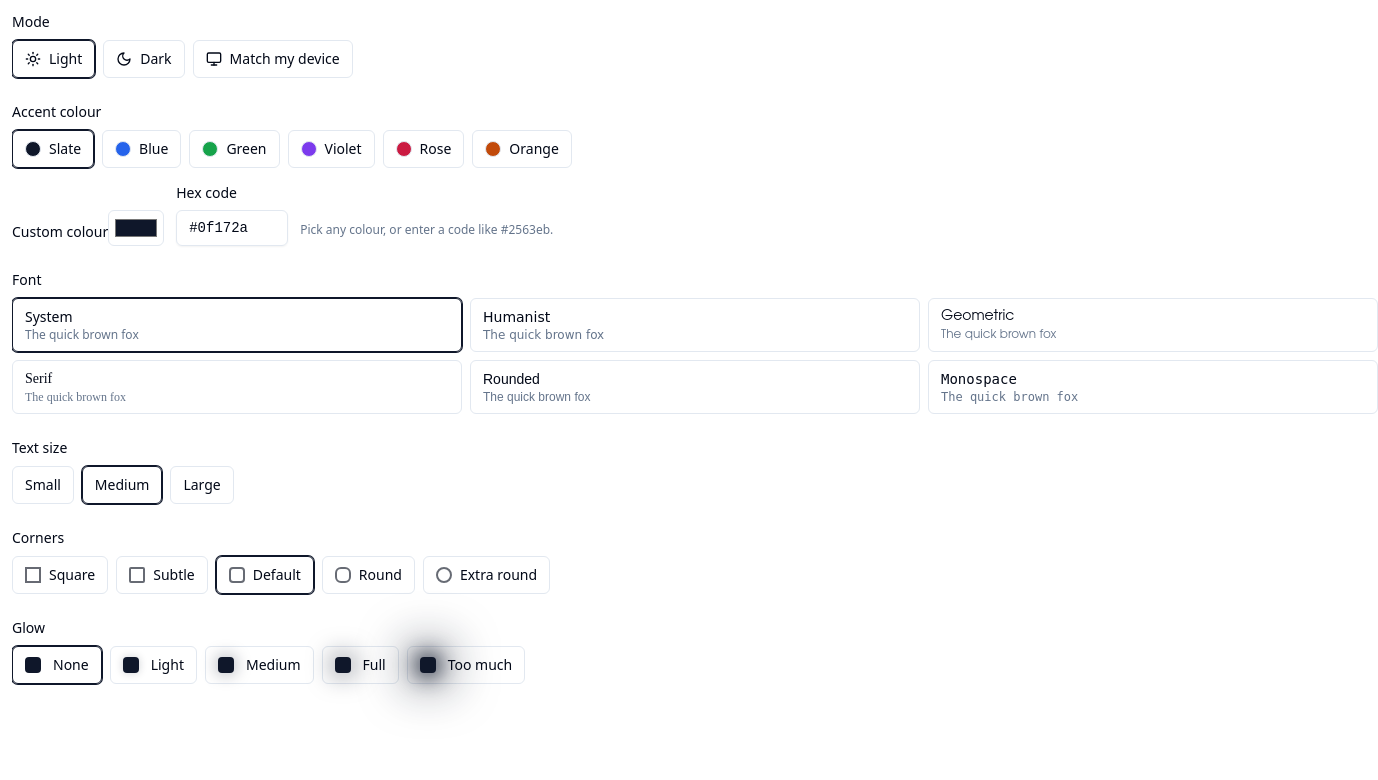
ThemeEditor › ignores an incomplete hex code
Replace the text in the field labelled "Hex code" with "#12" at (232, 228), box [176,210,288,246]
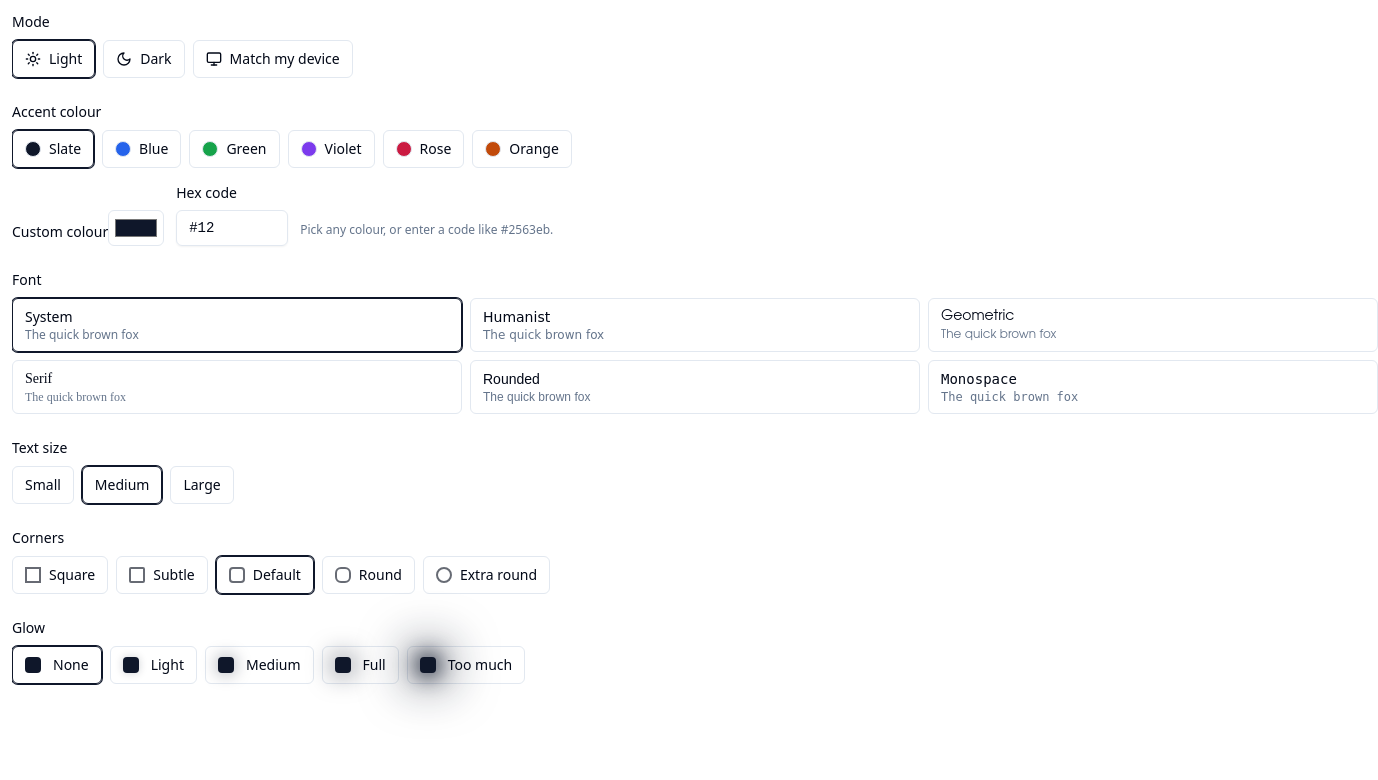
expect the field labelled "Hex code" is marked as invalid: met, box [176,210,288,246]
